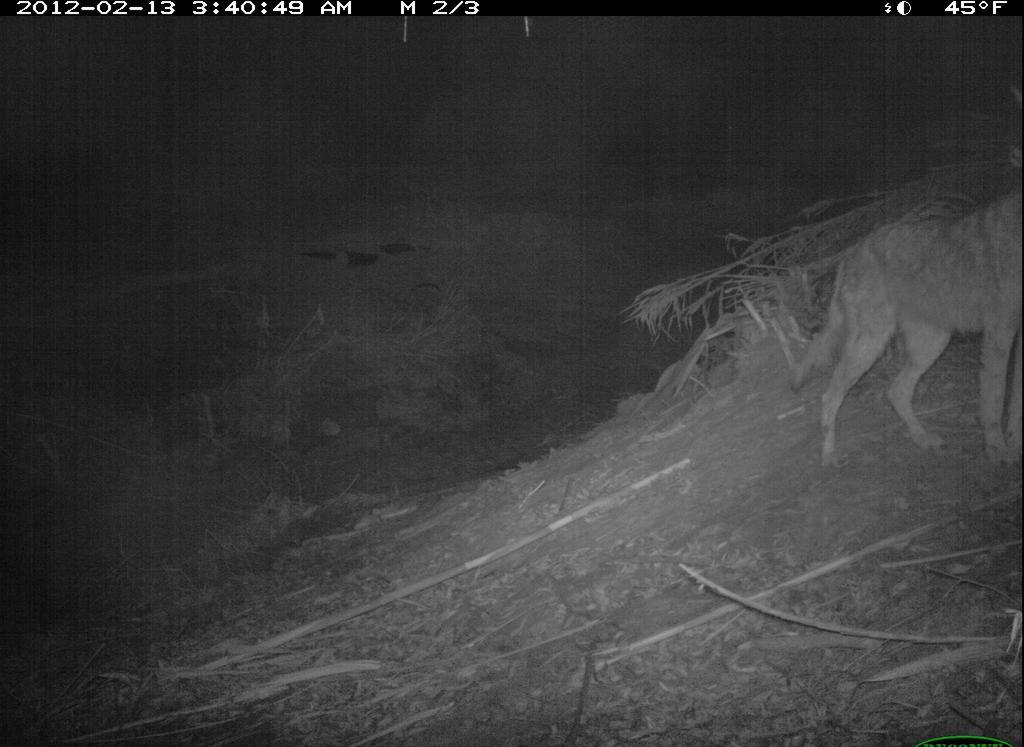coyote: (788, 173, 1023, 484)
